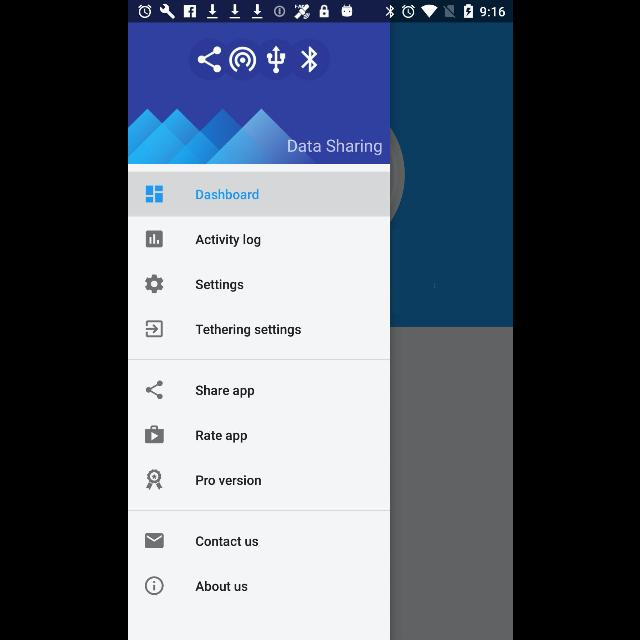icon: (197, 46, 221, 74), (300, 46, 318, 74), (144, 576, 164, 596), (144, 426, 164, 444), (145, 274, 163, 294), (144, 320, 162, 338), (144, 230, 162, 248), (145, 185, 163, 203), (146, 380, 162, 400), (144, 534, 164, 548)
image: (228, 47, 256, 73), (266, 46, 284, 74), (145, 470, 163, 490)
panel: (128, 24, 388, 640)
text: (287, 140, 381, 156), (195, 324, 301, 338), (194, 235, 260, 248), (196, 474, 260, 486), (194, 386, 253, 398), (196, 431, 247, 444), (195, 536, 258, 546), (195, 580, 247, 592), (196, 190, 258, 200), (195, 280, 243, 292)
uppertaskbar: (128, 1, 512, 23)
